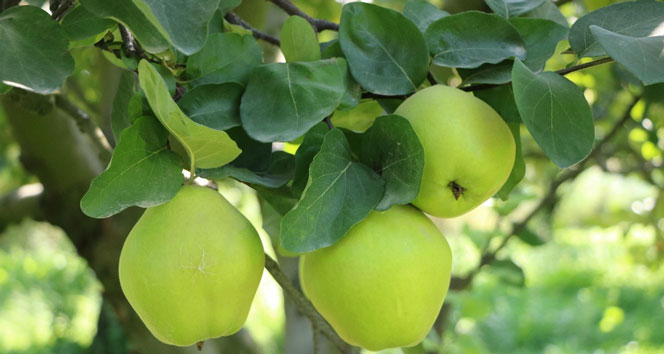Quince: (111, 186, 269, 344), (307, 198, 457, 348), (379, 90, 519, 230)
